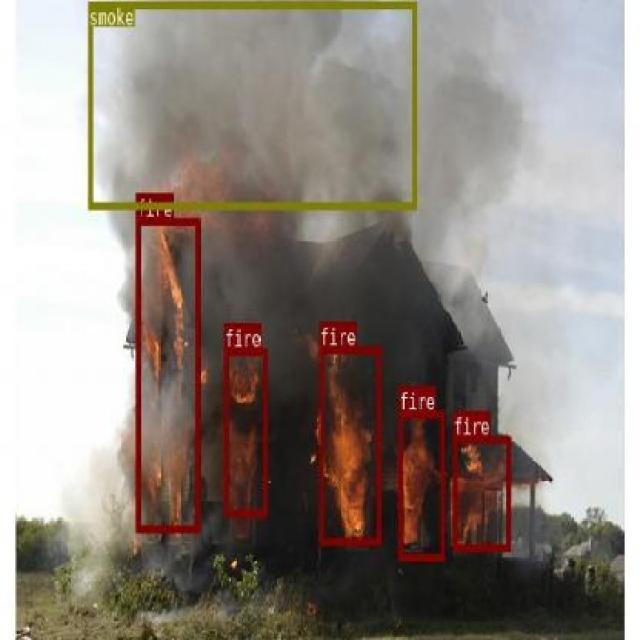fire: (134, 216, 200, 530), (318, 346, 380, 544), (223, 348, 266, 516), (397, 411, 443, 560), (452, 434, 510, 550)
smoke: (88, 0, 416, 208)
